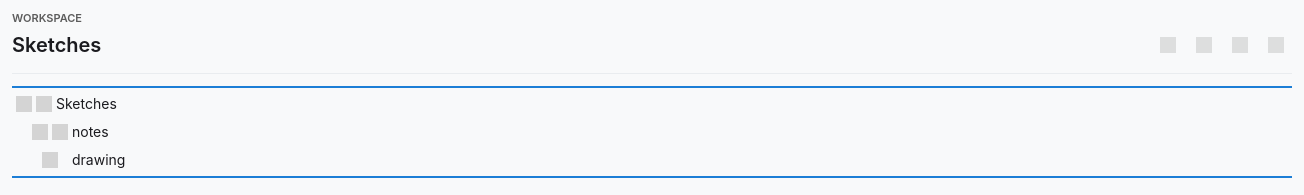
Test case: WorkspacePanel › renders only the current Workspace and collapses it
Check: the number of list items "notes" is 1, box left=32, top=123, right=109, bottom=140
Click the list item "Sketches" at (66, 104), box left=16, top=95, right=117, bottom=112
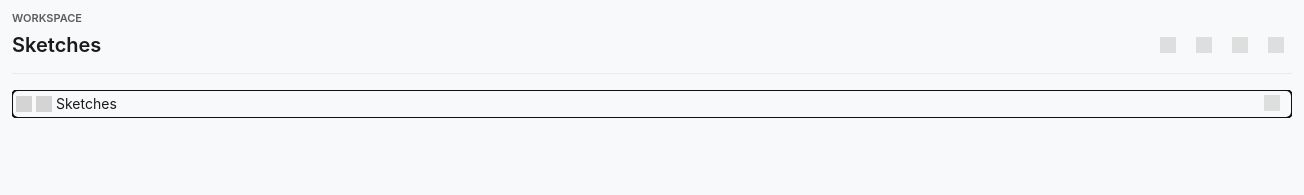
Check: the list item "Sketches" is collapsed, box left=12, top=90, right=1292, bottom=118
Check: the text "notes" is gone
